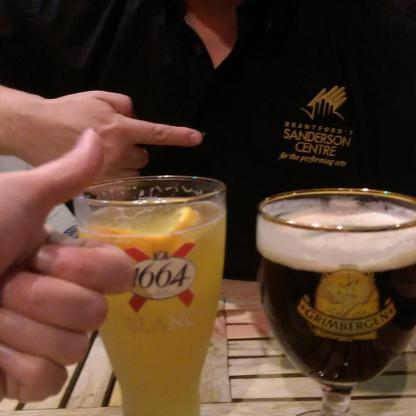drinking: (74, 176, 227, 415), (255, 187, 415, 415)
